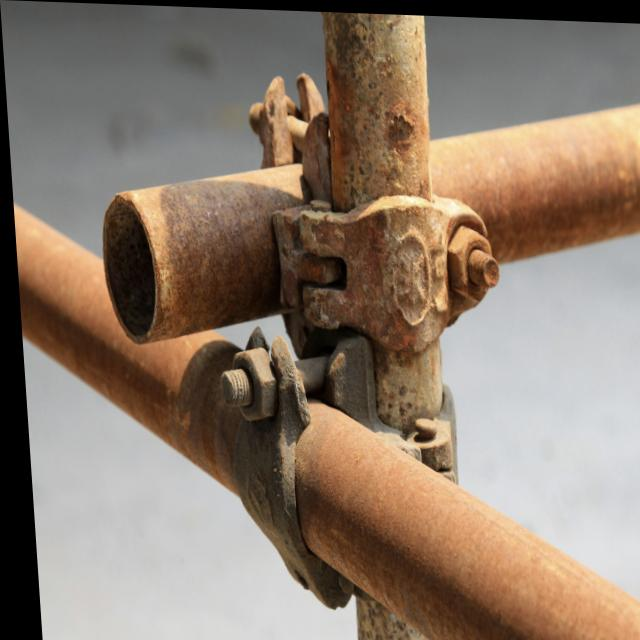Rusty bolt: (442, 226, 495, 298), (227, 346, 275, 421)
